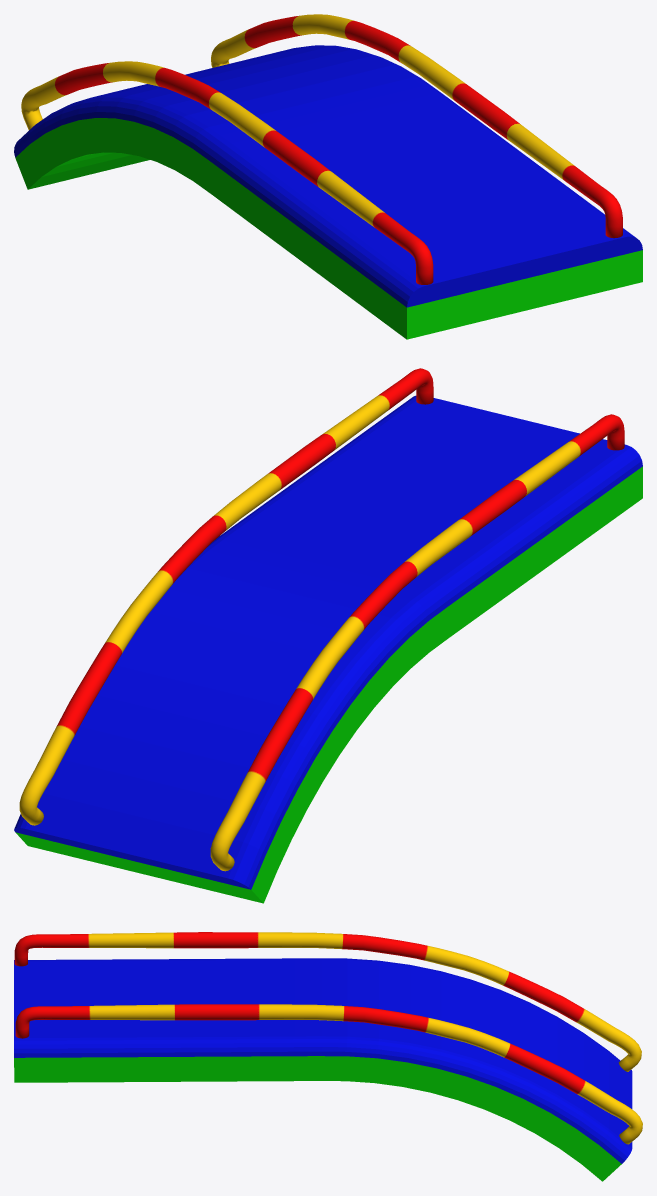
The model's file is 5 with texture.fbx.
The picture shows the model from 3 angles, top to bottom: view 1: azimuth 30°, elevation 25°; view 2: azimuth 150°, elevation 25°; view 3: azimuth 270°, elevation 25°; orthographic projection. The views are drawn at different scales.
Parts seen in each view (by area): view 1: Cube, pCylinder28, pCylinder28.001; view 2: Cube, pCylinder28.001, pCylinder28; view 3: Cube, pCylinder28.001, pCylinder28.
Boxes of the visible parts, x1,y1,x2,y2 form: Cube: (14, 45, 642, 339); pCylinder28: (21, 61, 433, 284); pCylinder28.001: (211, 14, 622, 238); Cube: (14, 395, 642, 903); pCylinder28.001: (19, 368, 433, 825); pCylinder28: (210, 414, 624, 871); Cube: (14, 958, 632, 1181); pCylinder28.001: (15, 1004, 642, 1144); pCylinder28: (14, 932, 641, 1071).
Bounding box in the file's own units: 500 × 438 × 1487.
